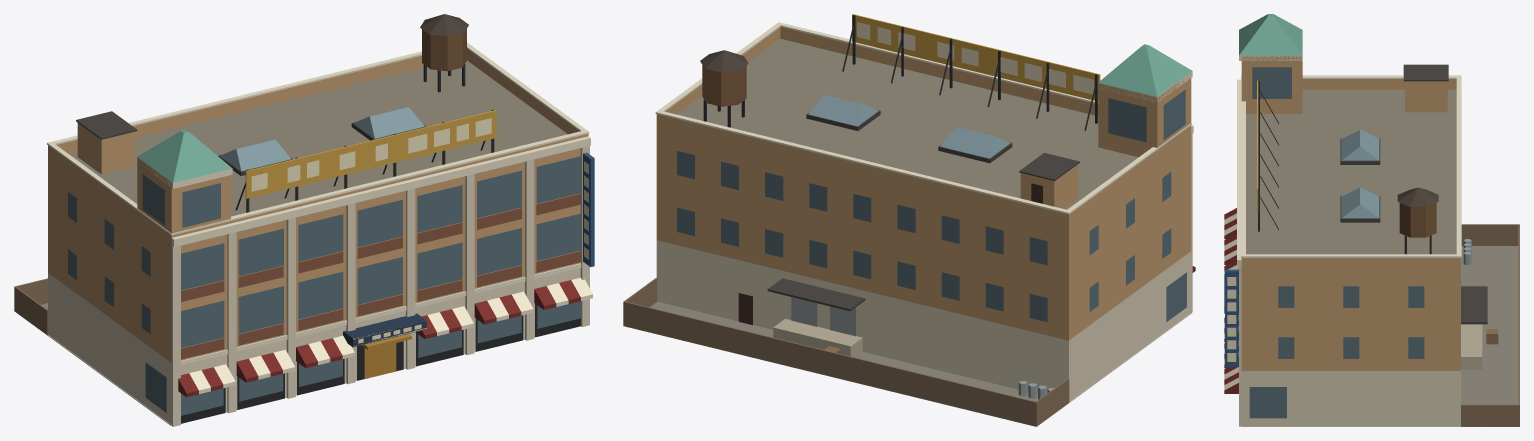
The model's file is store_wb.glb.
The picture shows the model from 3 angles, left to right: view 1: azimuth 30°, elevation 25°; view 2: azimuth 150°, elevation 25°; view 3: azimuth 270°, elevation 25°; orthographic projection. The views are drawn at different scales.
Visible parts, largest first — view 1: store_wb; view 2: store_wb; view 3: store_wb.
Part boxes in pixels (x1,y1,x2,y2): store_wb: (14,14,594,426); store_wb: (623,14,1195,426); store_wb: (1224,14,1519,426).
Size of the model in its own units: 30 by 18.87 by 20.73.
